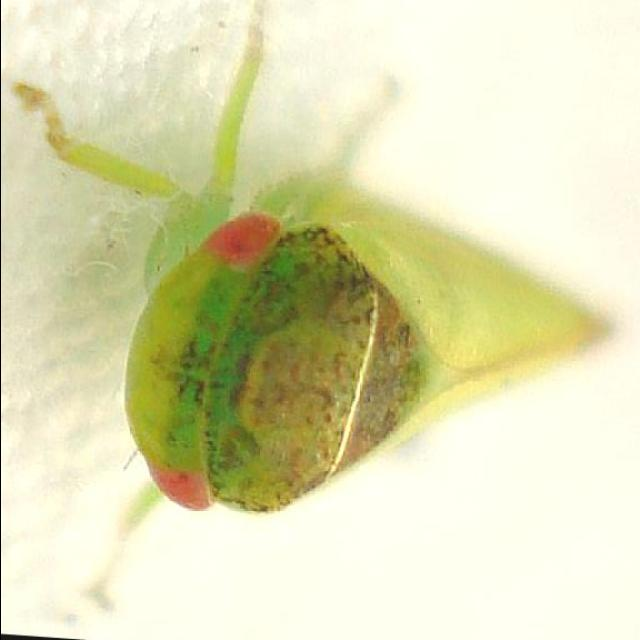green leaf hopper: (14, 0, 609, 608)
